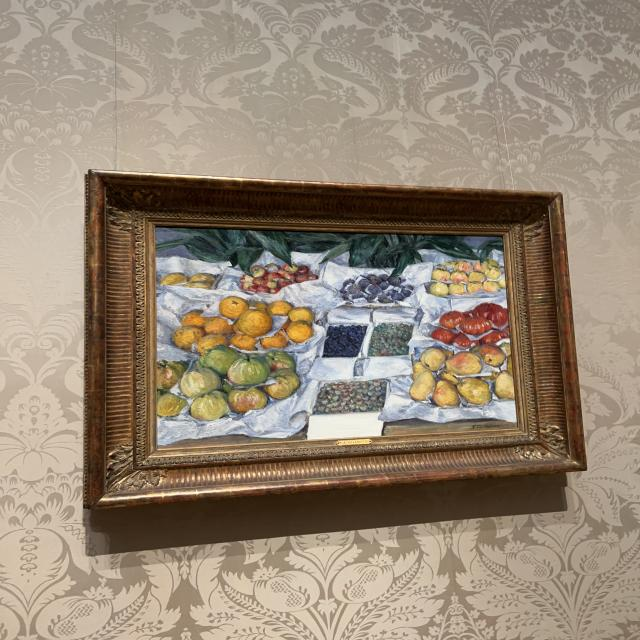fruits: (161, 233, 514, 440)
